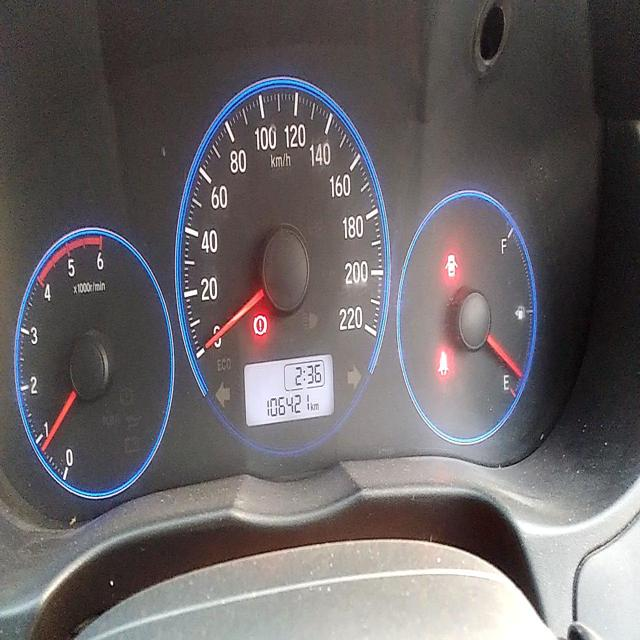odometer: (268, 388, 314, 417)
